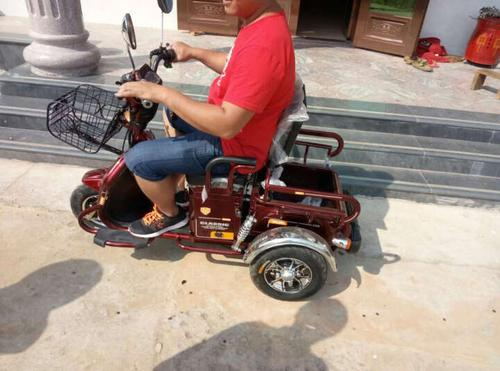only_driver: (36, 1, 393, 318)
